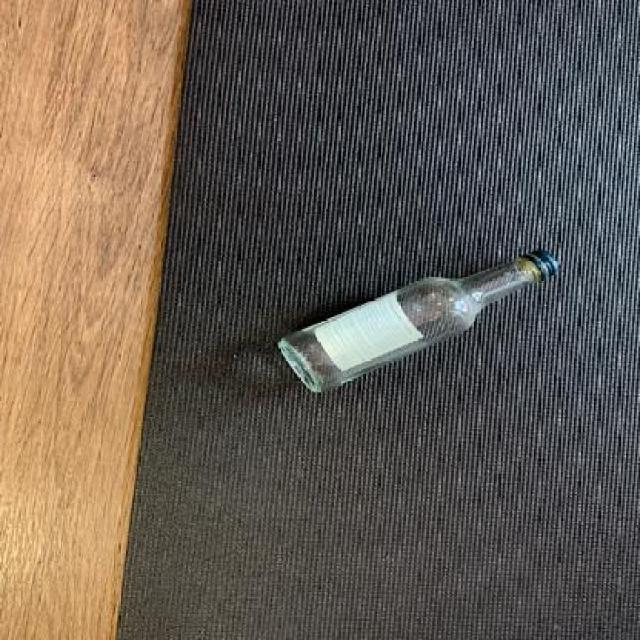trash: (272, 250, 568, 392)
